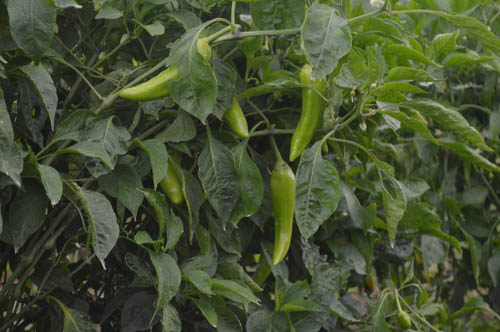ChiliPepper: (115, 43, 212, 99), (291, 66, 326, 170), (268, 164, 298, 266), (156, 149, 189, 207), (218, 96, 251, 139)
